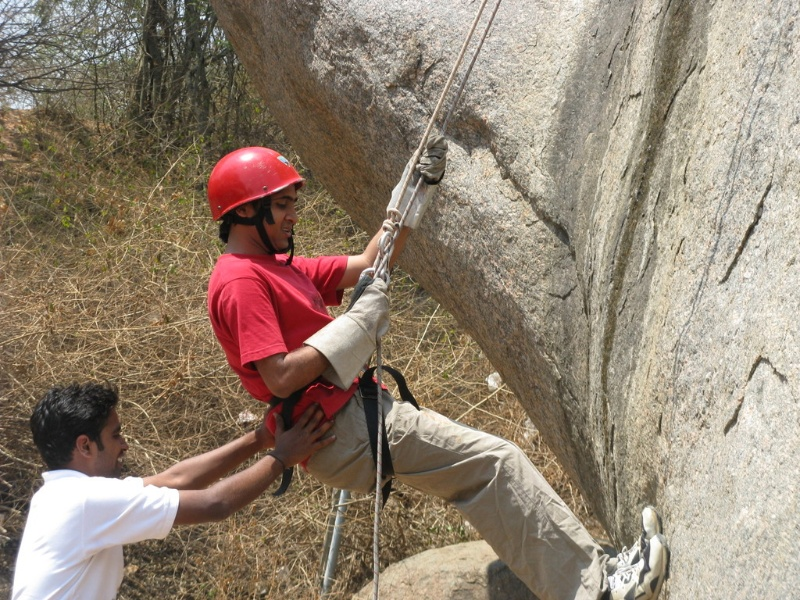Baret: (205, 147, 305, 229)
